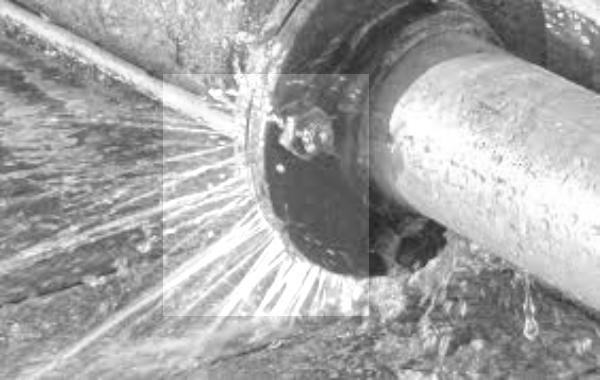pipe burst: (0, 97, 471, 368)
